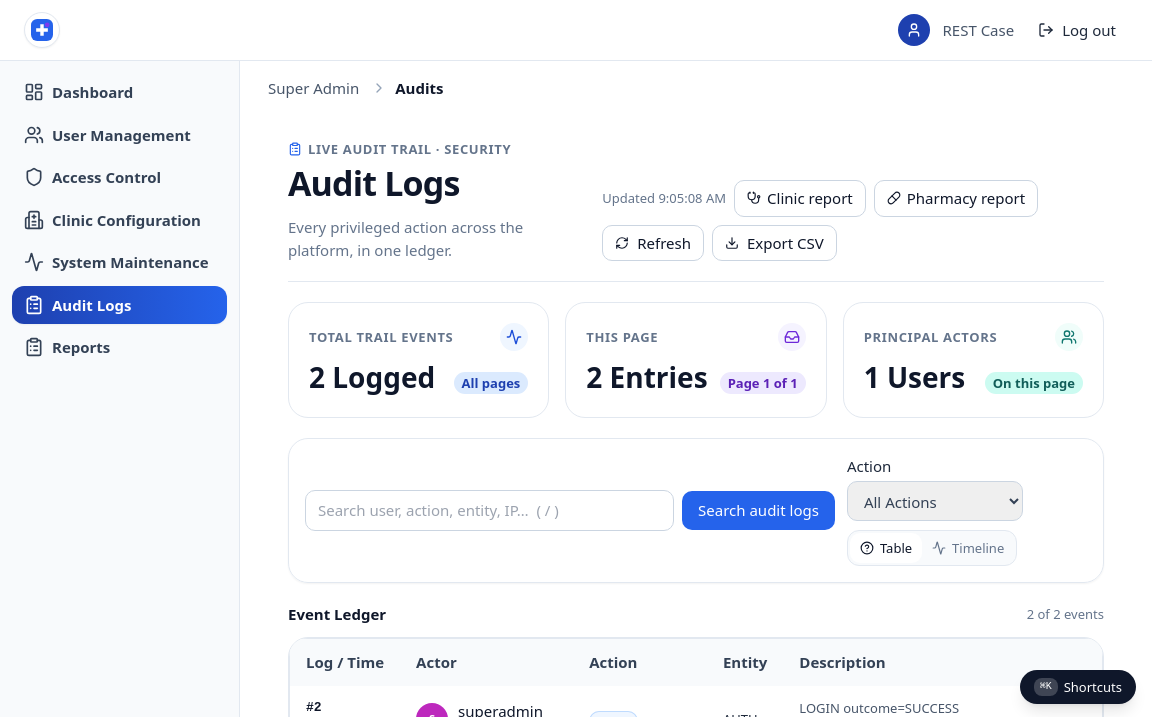
Scenario: super-admin audit trail — REST cases › searches and filters the loaded page client-side, then clears
Type "TOKEN_REFRESH" into the search field named "Search audit logs".
click(490, 510); type("TOKEN_REFRESH")  # box x1=305 y1=490 x2=674 y2=531
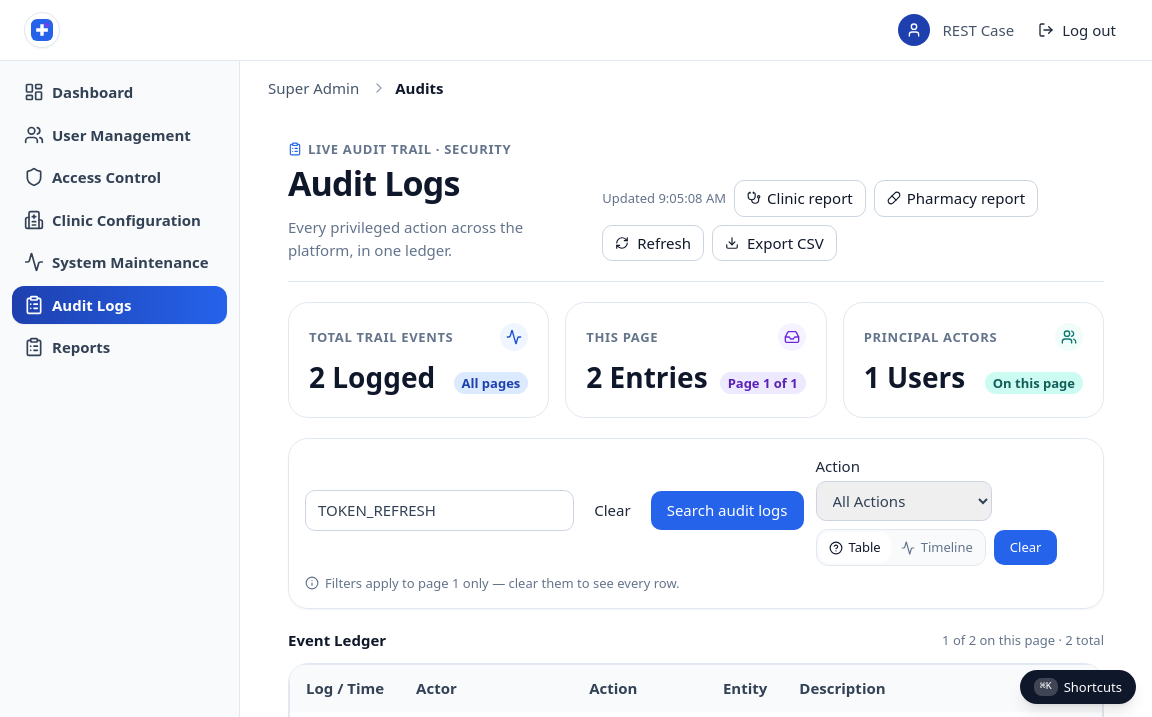
expect the text "Filters apply to page 1 only — clear them to see every row." is shown: met, box x1=305 y1=574 x2=680 y2=592
expect the text "#2" is gone: met
expect the text "1 of 2 on this page · 2 total" is shown: met, box x1=942 y1=631 x2=1104 y2=649
Select "LOGIN" in the dropdown labelled "Action" at (904, 502), box x1=816 y1=482 x2=992 y2=522
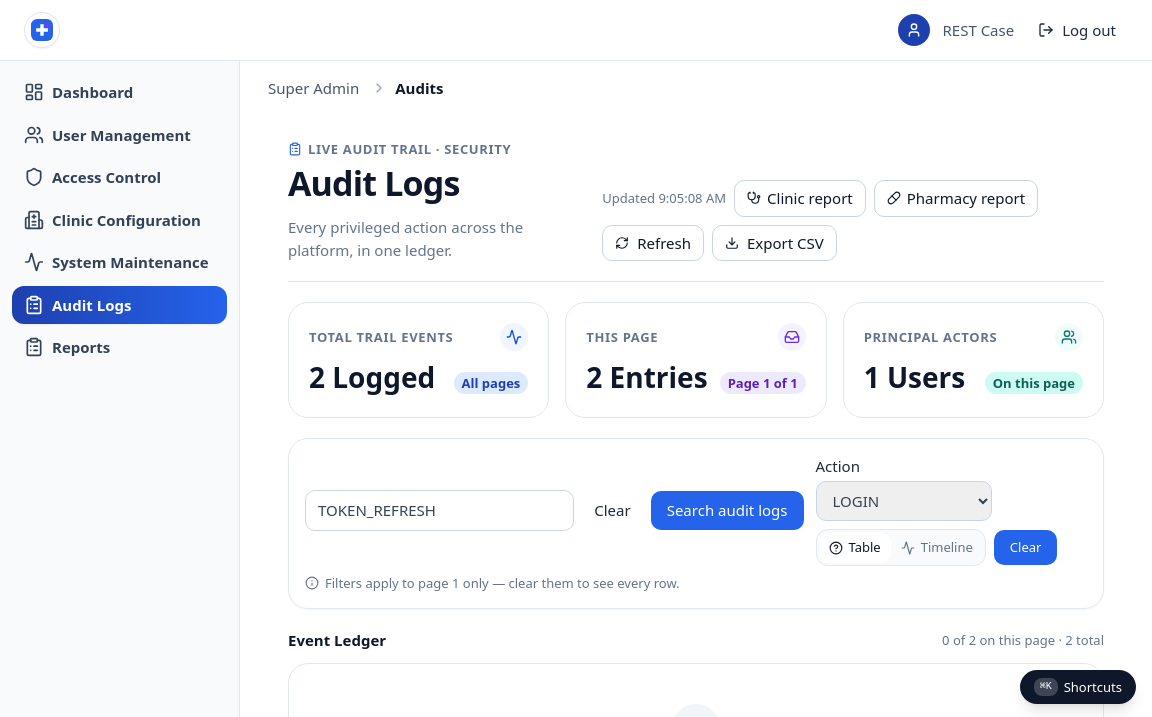
expect the number of buttons "Clear" is 2: met
Click the 1st button "Clear".
click(612, 510)  # box x1=582 y1=493 x2=643 y2=528
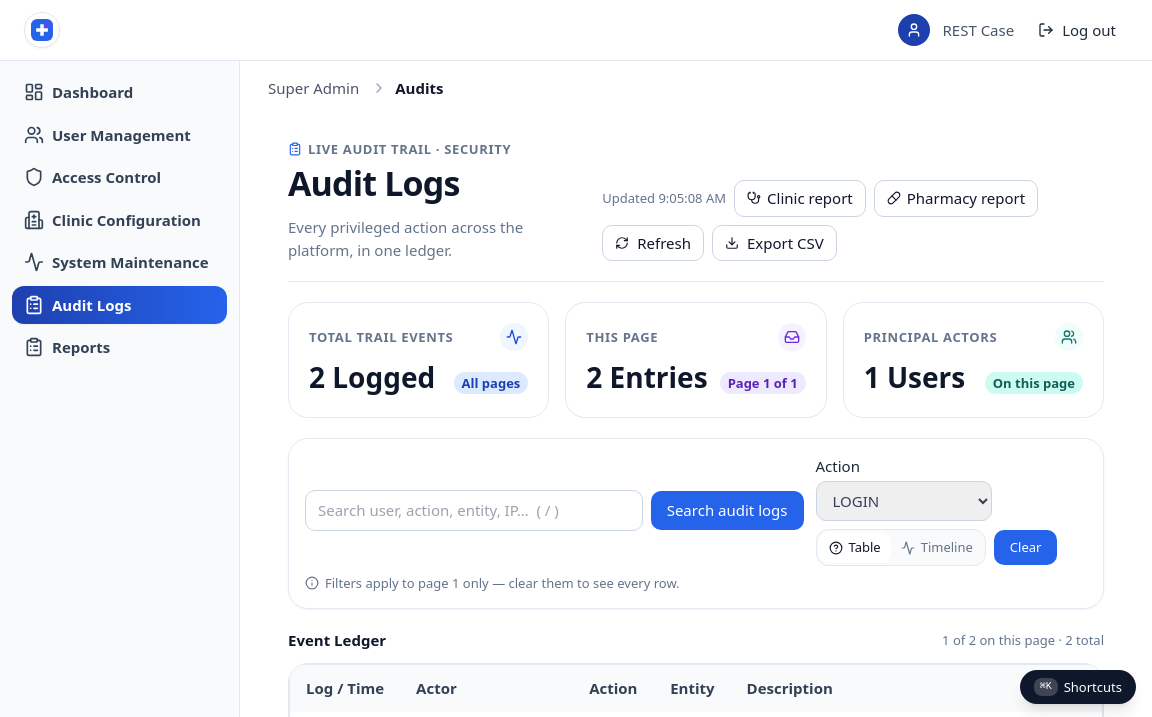
Click the button "Clear".
click(1026, 548)  # box x1=994 y1=530 x2=1057 y2=565
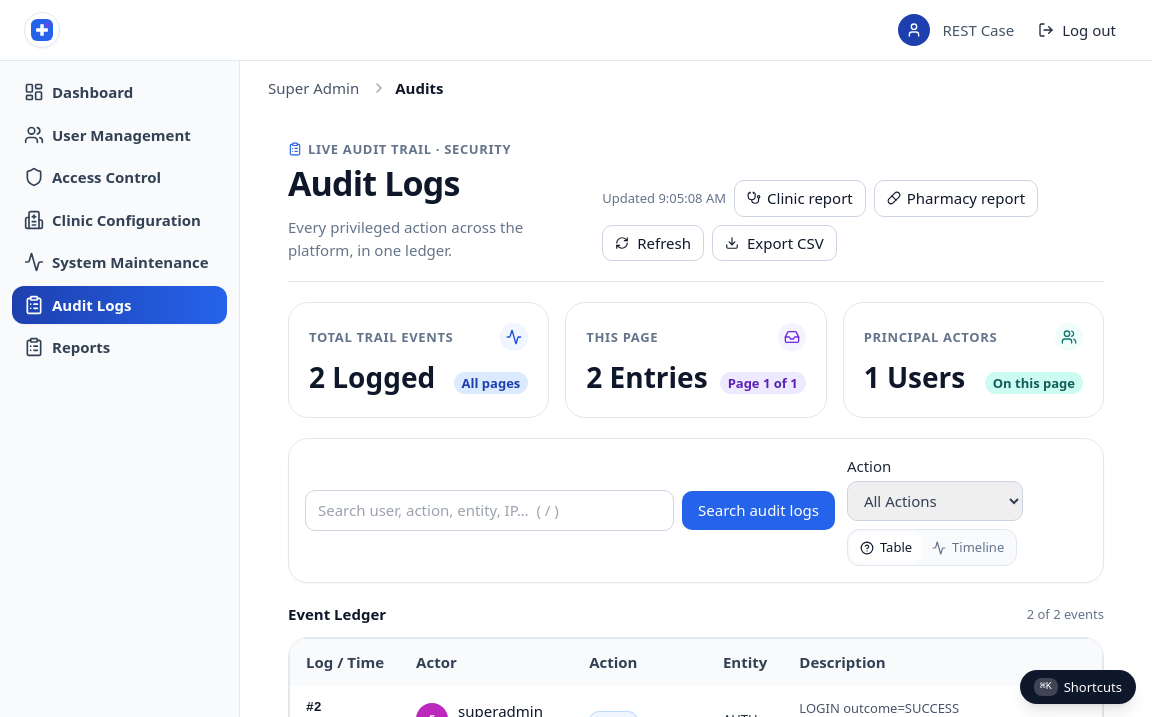
expect the text "#2" is shown: met, box x1=306 y1=700 x2=322 y2=715
expect the text "2 of 2 events" is shown: met, box x1=1027 y1=605 x2=1104 y2=623
